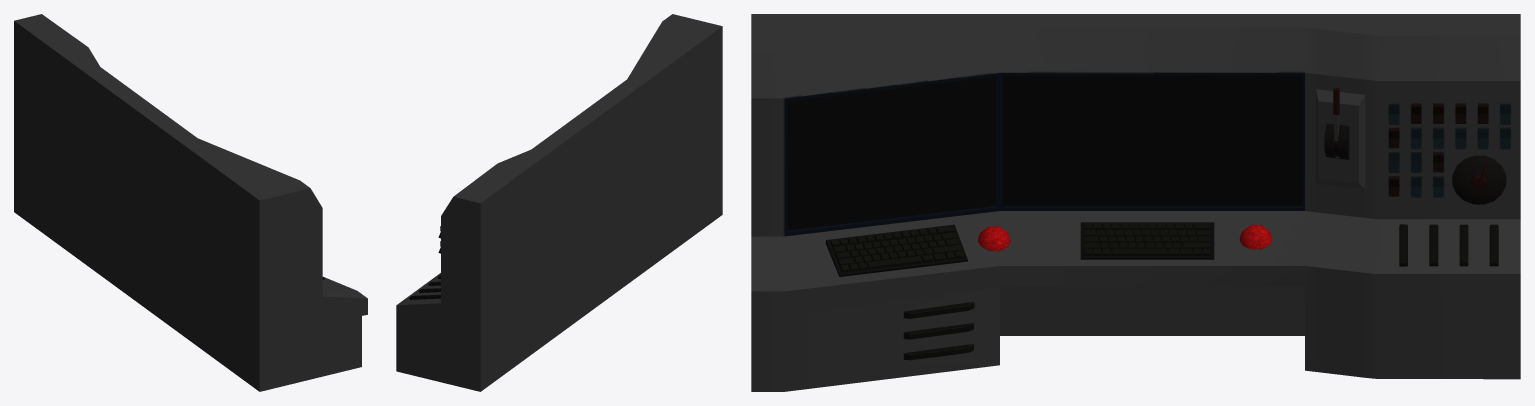
3 views of the same model, side by side, from view 1: azimuth 30°, elevation 25°; view 2: azimuth 150°, elevation 25°; view 3: azimuth 270°, elevation 25° (orthographic). The views are drawn at different scales.
Visible parts, largest first — view 1: RS_HS; view 2: RS_HS; view 3: RS_HS.
Part boxes in pixels (x1,y1,x2,y2): RS_HS: (14,14,367,391); RS_HS: (396,14,722,391); RS_HS: (751,14,1520,391).
Bounding box in the file's own units: 135 × 228 × 530.
